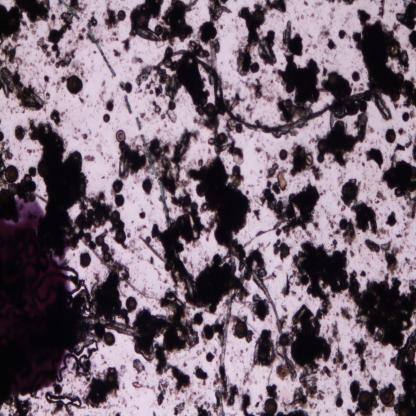Air bubble: (46, 391, 82, 407)
Background material: (150, 213, 249, 319), (26, 118, 90, 262), (353, 10, 416, 108), (190, 154, 251, 251), (349, 269, 416, 350), (133, 297, 201, 362), (294, 240, 350, 307), (294, 306, 335, 396), (153, 124, 201, 192), (387, 328, 416, 416), (278, 180, 322, 238), (91, 260, 130, 325), (327, 113, 370, 171), (172, 188, 213, 248), (276, 52, 320, 104), (0, 67, 47, 113), (136, 44, 179, 94), (381, 154, 416, 211), (235, 6, 260, 78), (178, 56, 209, 113), (162, 0, 198, 42), (82, 373, 120, 409), (193, 114, 226, 155), (327, 74, 359, 116), (0, 0, 26, 50), (78, 191, 112, 227), (235, 241, 267, 279), (114, 139, 150, 170), (350, 200, 378, 236), (254, 178, 279, 218), (274, 96, 312, 122), (359, 374, 381, 416), (0, 393, 39, 416), (166, 360, 192, 394), (197, 20, 223, 54), (257, 28, 279, 66), (286, 140, 308, 178), (16, 0, 52, 23), (281, 21, 304, 57), (189, 38, 217, 66), (212, 373, 230, 416), (150, 97, 178, 124), (140, 232, 164, 262), (0, 128, 15, 175), (201, 316, 226, 344), (279, 388, 309, 411), (352, 340, 370, 376), (103, 0, 120, 37), (130, 2, 145, 40), (242, 76, 265, 100), (209, 0, 232, 23), (252, 294, 272, 320), (103, 219, 130, 238), (283, 268, 299, 300), (226, 141, 247, 165), (57, 9, 77, 34), (154, 375, 170, 406), (38, 35, 54, 65), (238, 387, 254, 416), (3, 43, 23, 66), (343, 218, 358, 248), (152, 345, 166, 377), (272, 168, 289, 194), (365, 147, 384, 170), (272, 239, 292, 260), (145, 0, 164, 22), (128, 239, 146, 262), (263, 77, 277, 106), (384, 252, 400, 276), (50, 108, 68, 129), (262, 0, 287, 15), (224, 116, 237, 144), (146, 78, 164, 98), (194, 396, 212, 416), (60, 47, 77, 68), (70, 0, 88, 19), (76, 25, 92, 46), (225, 91, 241, 111), (333, 344, 344, 373), (221, 372, 231, 402), (227, 383, 239, 407), (130, 282, 148, 298), (117, 158, 130, 179), (71, 59, 86, 77), (240, 366, 252, 386), (275, 363, 289, 380), (194, 368, 208, 385), (132, 358, 146, 375), (316, 25, 329, 43), (265, 162, 278, 180), (351, 381, 362, 402), (128, 135, 142, 151), (385, 210, 399, 226), (10, 71, 26, 85), (49, 400, 63, 416), (365, 239, 380, 253), (332, 320, 341, 343), (327, 212, 338, 230), (276, 410, 309, 416), (245, 100, 256, 118), (340, 307, 354, 321), (264, 385, 278, 399), (156, 68, 169, 83), (133, 374, 145, 390), (173, 400, 185, 416), (377, 226, 391, 239), (320, 366, 333, 380), (82, 358, 92, 376), (121, 36, 131, 54), (312, 165, 324, 180), (11, 30, 29, 40), (377, 0, 387, 18), (30, 21, 41, 37), (308, 132, 321, 145), (99, 80, 107, 101), (23, 58, 36, 70), (342, 13, 354, 26), (48, 14, 58, 29), (345, 406, 360, 416), (338, 168, 346, 186), (82, 152, 94, 164), (154, 266, 162, 283), (53, 44, 61, 61), (329, 7, 336, 26), (64, 404, 75, 416), (252, 208, 263, 220), (356, 180, 362, 202), (372, 353, 384, 364), (381, 240, 392, 252), (394, 142, 406, 153), (375, 190, 387, 201), (52, 382, 64, 393), (90, 16, 100, 29), (278, 315, 288, 328), (391, 245, 404, 255), (38, 80, 46, 96), (317, 388, 326, 402), (328, 37, 337, 51), (106, 97, 115, 111), (365, 346, 374, 360), (119, 362, 128, 376), (222, 80, 233, 91), (168, 59, 179, 70), (406, 265, 416, 277), (267, 364, 273, 384), (311, 220, 321, 232), (267, 150, 277, 162), (405, 132, 412, 149), (187, 392, 196, 405), (105, 36, 118, 45), (305, 231, 318, 240), (405, 256, 416, 266), (195, 348, 206, 358), (206, 134, 215, 146), (312, 0, 324, 9), (130, 57, 143, 65), (328, 230, 341, 238), (138, 207, 146, 220), (253, 0, 263, 10), (140, 111, 150, 121), (82, 376, 92, 386), (107, 364, 118, 373), (7, 106, 18, 115), (323, 161, 332, 172), (68, 362, 75, 376), (132, 174, 140, 186), (346, 347, 354, 359), (293, 228, 301, 240), (101, 354, 109, 366), (125, 191, 133, 203), (358, 80, 366, 92), (392, 22, 400, 34), (97, 144, 104, 157), (125, 226, 132, 239), (147, 384, 157, 393), (413, 134, 416, 164), (326, 386, 335, 396), (267, 274, 276, 284), (403, 221, 412, 231), (147, 254, 155, 265), (136, 224, 148, 231), (56, 79, 62, 93), (42, 75, 51, 84), (398, 127, 407, 136), (255, 408, 265, 416), (326, 336, 334, 346), (254, 146, 264, 154), (255, 114, 263, 124), (156, 41, 166, 49), (26, 147, 36, 155), (247, 330, 253, 343), (335, 387, 342, 398), (339, 29, 346, 40), (335, 371, 340, 386), (235, 354, 244, 362), (363, 371, 371, 380), (326, 58, 335, 66), (310, 402, 318, 411), (398, 202, 406, 211), (343, 0, 355, 6), (320, 188, 329, 196), (407, 211, 416, 219), (258, 67, 268, 74), (409, 109, 416, 119), (346, 152, 352, 163), (410, 74, 416, 85), (331, 239, 337, 250), (121, 243, 129, 251), (317, 121, 325, 129), (106, 154, 114, 162), (271, 68, 279, 76), (77, 96, 85, 104), (367, 126, 375, 134), (346, 42, 354, 50), (162, 277, 170, 285), (281, 303, 288, 312), (0, 59, 6, 69), (322, 68, 328, 78), (110, 246, 116, 256), (306, 43, 312, 53), (356, 148, 362, 158), (383, 272, 389, 282), (402, 278, 408, 288), (396, 268, 404, 275), (402, 231, 410, 238), (112, 50, 120, 57), (349, 249, 355, 258), (326, 322, 330, 335), (45, 91, 50, 101), (181, 360, 188, 367), (395, 232, 402, 239), (377, 270, 385, 276), (374, 180, 382, 186), (380, 405, 386, 413), (366, 197, 372, 205), (342, 363, 348, 371), (276, 228, 282, 236), (229, 59, 234, 68), (61, 74, 66, 83), (122, 397, 126, 408), (358, 243, 362, 254), (270, 13, 276, 20), (17, 154, 23, 161), (50, 80, 56, 87), (120, 80, 124, 90), (313, 42, 318, 50), (388, 8, 396, 13), (348, 370, 353, 378), (255, 401, 260, 409), (362, 172, 367, 180), (44, 410, 50, 416), (74, 128, 80, 134), (364, 334, 370, 340), (70, 384, 76, 390), (363, 183, 367, 192), (326, 0, 335, 4), (259, 394, 264, 401), (207, 148, 212, 155), (219, 23, 224, 30), (350, 326, 355, 333), (401, 262, 406, 269), (94, 132, 99, 139), (360, 271, 367, 276), (102, 100, 106, 108), (113, 412, 121, 416), (235, 22, 239, 30), (321, 60, 325, 68), (359, 66, 363, 74), (390, 194, 394, 202), (122, 382, 126, 390), (101, 174, 106, 180), (369, 140, 374, 146), (276, 16, 282, 21), (332, 293, 338, 298), (308, 33, 314, 38), (66, 378, 70, 385), (92, 10, 96, 17), (324, 50, 331, 54), (351, 337, 355, 344), (88, 129, 92, 136), (258, 175, 265, 179), (348, 35, 352, 42), (152, 409, 156, 416), (249, 131, 252, 140), (407, 244, 412, 249), (375, 199, 380, 204), (356, 159, 361, 164), (109, 92, 114, 97), (248, 183, 254, 187), (352, 157, 356, 163), (310, 12, 314, 18), (337, 0, 343, 4), (281, 16, 285, 22), (239, 348, 243, 354), (341, 204, 345, 210), (299, 296, 303, 302), (367, 262, 371, 268), (304, 0, 308, 6), (337, 199, 340, 207), (316, 410, 320, 416), (72, 136, 78, 140), (96, 100, 100, 105), (86, 94, 90, 99), (287, 180, 292, 184), (244, 347, 248, 352), (300, 14, 304, 19), (296, 16, 300, 21), (379, 212, 383, 217), (382, 362, 386, 367), (245, 190, 250, 194), (92, 50, 96, 55), (128, 66, 132, 71), (292, 26, 296, 31), (377, 408, 380, 414), (336, 312, 340, 316), (386, 206, 390, 210), (84, 78, 88, 82), (373, 367, 377, 371), (376, 252, 380, 256), (119, 59, 123, 63), (361, 162, 365, 166), (320, 206, 324, 210), (371, 255, 374, 260), (231, 17, 234, 22), (259, 171, 264, 174), (359, 53, 362, 58), (113, 164, 116, 169), (377, 130, 380, 135), (326, 408, 328, 414), (324, 210, 327, 214), (91, 60, 94, 64), (99, 125, 102, 129), (380, 259, 384, 262), (130, 220, 134, 223), (354, 88, 356, 94), (374, 207, 378, 210), (54, 102, 57, 106), (280, 61, 283, 65), (402, 218, 406, 221), (396, 3, 399, 7), (94, 104, 97, 108), (126, 354, 129, 358), (370, 0, 375, 2), (359, 338, 364, 340), (347, 333, 350, 336), (334, 55, 337, 58), (150, 200, 152, 204), (234, 0, 238, 2), (321, 16, 323, 20), (377, 216, 379, 220), (307, 14, 309, 17), (87, 105, 89, 107), (295, 11, 297, 13), (91, 105, 92, 106)
Cellulose filter fibre: (148, 43, 382, 134), (250, 268, 294, 376), (81, 314, 142, 338), (217, 288, 232, 377), (243, 221, 278, 248)
Cotton: (141, 135, 173, 229), (89, 26, 116, 78), (122, 92, 132, 114), (135, 116, 142, 132)
Diatom: (133, 25, 162, 43), (374, 95, 393, 119), (67, 74, 82, 96), (164, 74, 177, 99), (396, 12, 416, 28), (342, 181, 357, 202), (4, 164, 20, 183), (380, 386, 394, 407), (358, 390, 372, 409), (235, 320, 248, 340), (264, 397, 278, 415), (135, 9, 149, 27), (326, 70, 340, 87), (79, 251, 91, 269), (125, 296, 138, 312), (75, 212, 87, 229), (69, 149, 82, 164), (334, 119, 346, 135), (204, 100, 215, 117), (316, 139, 328, 154), (384, 128, 396, 143), (406, 1, 416, 19), (253, 8, 264, 24), (114, 229, 126, 243), (104, 332, 116, 346), (106, 371, 117, 386), (13, 125, 24, 140), (113, 179, 124, 193), (49, 29, 60, 43), (142, 179, 152, 194), (114, 194, 125, 207), (94, 207, 105, 220), (356, 312, 370, 322), (193, 312, 203, 326), (408, 29, 416, 46), (115, 129, 126, 141), (111, 210, 121, 223), (338, 217, 348, 230), (205, 352, 216, 363), (279, 334, 289, 346), (250, 62, 260, 73), (95, 234, 105, 245), (27, 181, 37, 192), (220, 4, 232, 13), (359, 100, 368, 112), (330, 109, 335, 129), (24, 173, 34, 183), (300, 275, 310, 285), (234, 123, 243, 134), (406, 350, 415, 361), (351, 70, 360, 81), (117, 10, 126, 21), (83, 232, 92, 243), (209, 302, 217, 314), (155, 24, 163, 36), (125, 81, 133, 93), (306, 153, 313, 166), (103, 113, 111, 124), (279, 149, 287, 160), (219, 132, 226, 144), (103, 253, 112, 262), (102, 244, 110, 254), (276, 200, 284, 210), (87, 207, 94, 218), (402, 112, 410, 121), (336, 397, 343, 407), (317, 154, 324, 163), (29, 193, 35, 203), (83, 133, 88, 140), (55, 62, 60, 68)
Pen: (0, 175, 75, 396)
